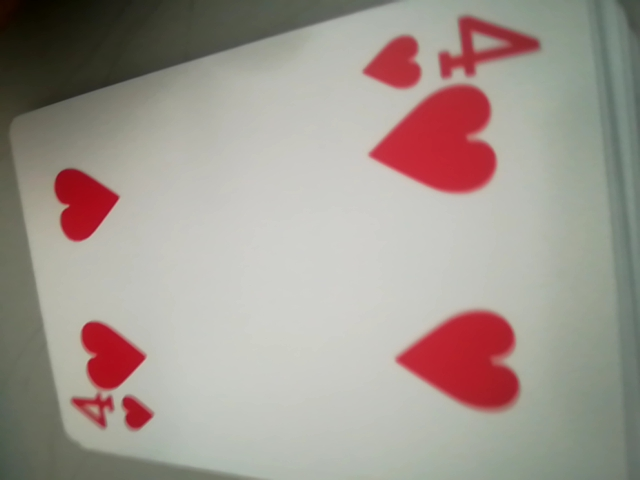hx 4: (359, 8, 548, 95)
